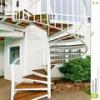stairs: (49, 22, 86, 67), (2, 6, 65, 31), (15, 70, 50, 100)
